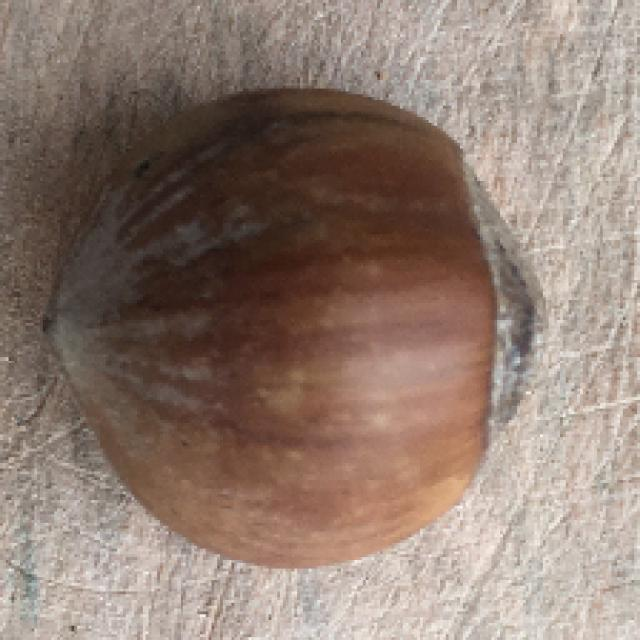damagedHazelnut: (35, 73, 557, 569)
